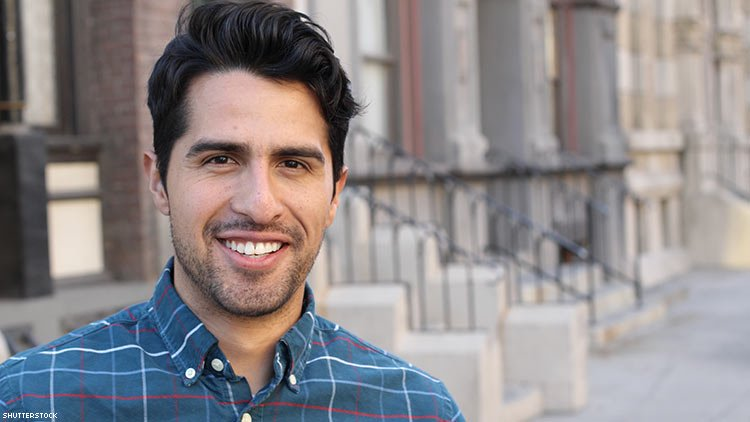bare: (165, 181, 329, 314)
